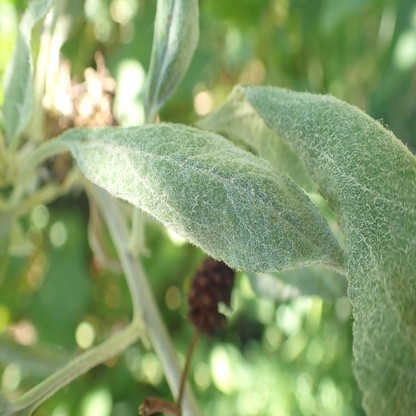powdery_mildew: (199, 83, 414, 416), (71, 123, 344, 274), (126, 0, 199, 125)
